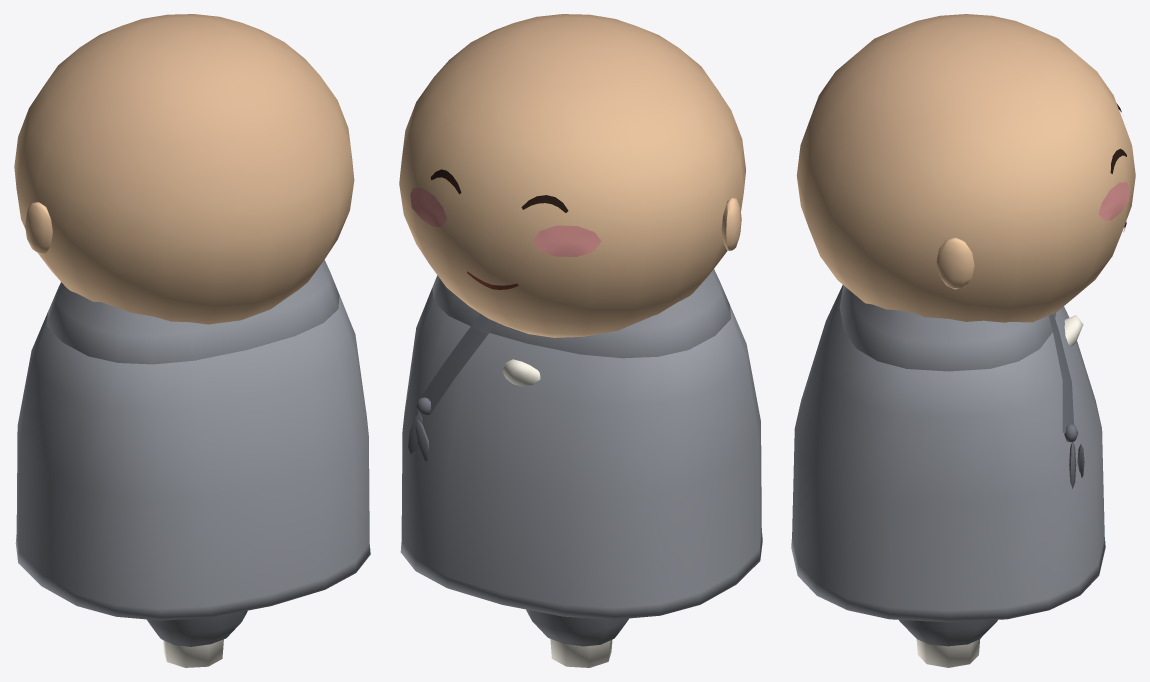
Rendered from monk.glb.
3 views of the same model, side by side, from view 1: azimuth 30°, elevation 25°; view 2: azimuth 150°, elevation 25°; view 3: azimuth 270°, elevation 25° (orthographic). The views are drawn at different scales.
Parts seen in each view (by area): view 1: skirt, head, torso, trousers, leg; view 2: skirt, head, torso, face, skirtTrim, trousers, leg, foot; view 3: head, skirt, torso, trousers, skirtTrim, leg, face.
Boxes of the visible parts, box(x1,y1,x2,y2) form: skirt: box(15, 296, 370, 620); head: box(14, 14, 354, 324); torso: box(47, 260, 339, 364); trousers: box(146, 610, 247, 646); leg: box(163, 639, 223, 667); skirt: box(400, 288, 762, 619); head: box(399, 14, 745, 337); torso: box(432, 269, 730, 358); face: box(410, 169, 601, 289); skirtTrim: box(408, 328, 487, 460); trousers: box(526, 609, 629, 646); leg: box(550, 639, 612, 667); foot: box(502, 359, 540, 386); head: box(796, 14, 1135, 322); skirt: box(791, 285, 1105, 622); torso: box(839, 285, 1055, 371); trousers: box(899, 620, 997, 646); skirtTrim: box(1053, 326, 1084, 488); leg: box(916, 639, 980, 667); face: box(1098, 103, 1129, 231).
Size of the model in its own units: 0.4135 by 0.7663 by 0.3857.
